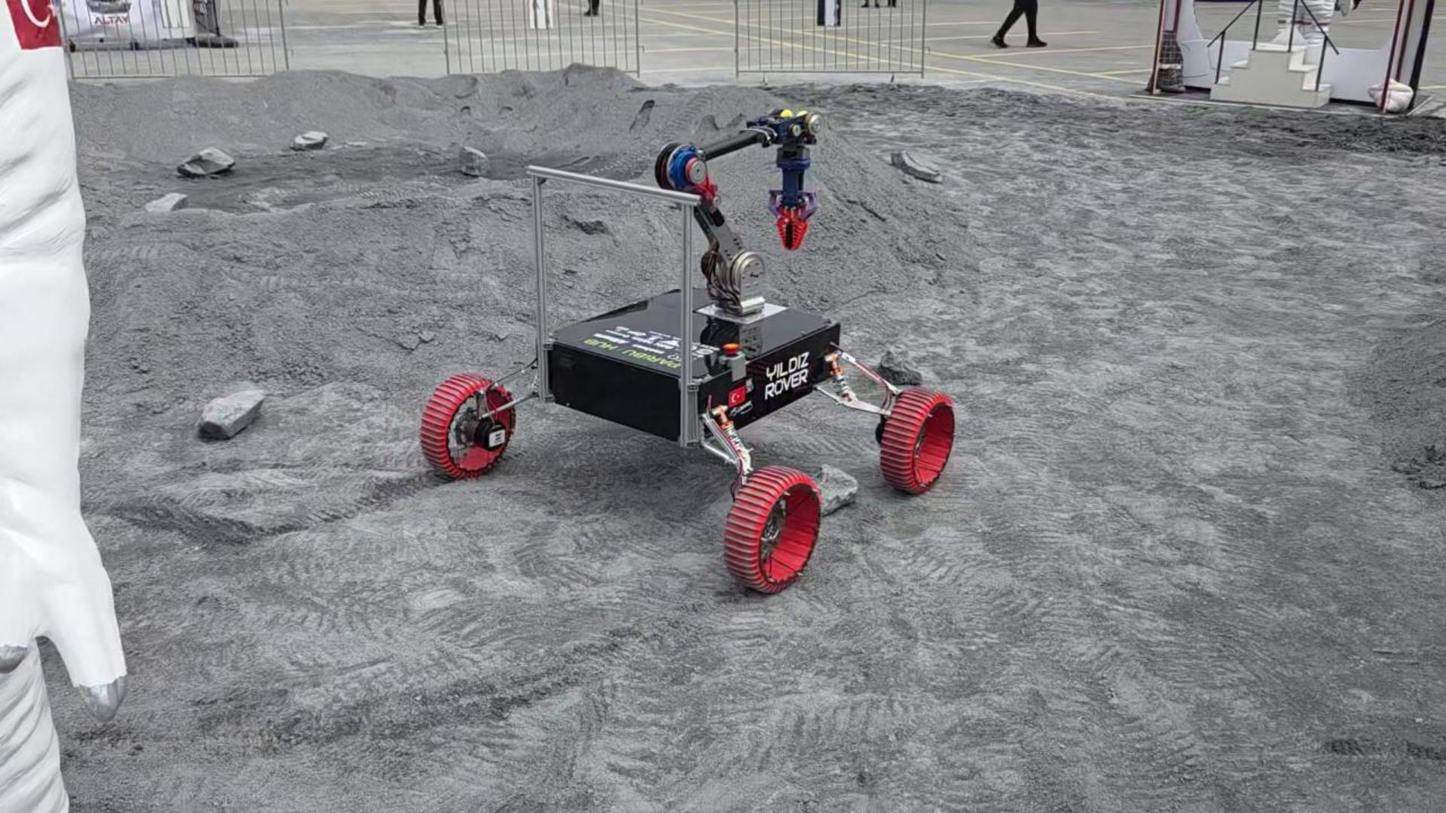rock: (198, 388, 265, 438), (816, 465, 857, 515), (876, 346, 922, 385), (176, 147, 234, 176), (890, 151, 941, 183), (460, 145, 488, 176), (143, 192, 186, 212), (289, 131, 328, 150)
